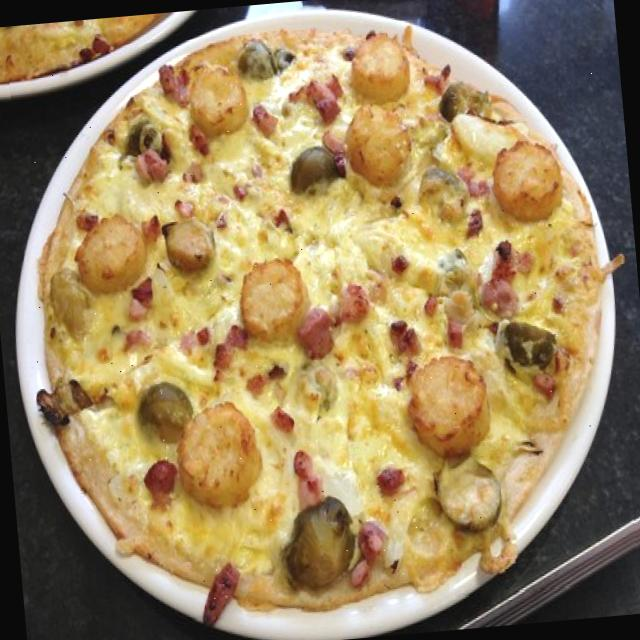pizza: (38, 30, 612, 610)
